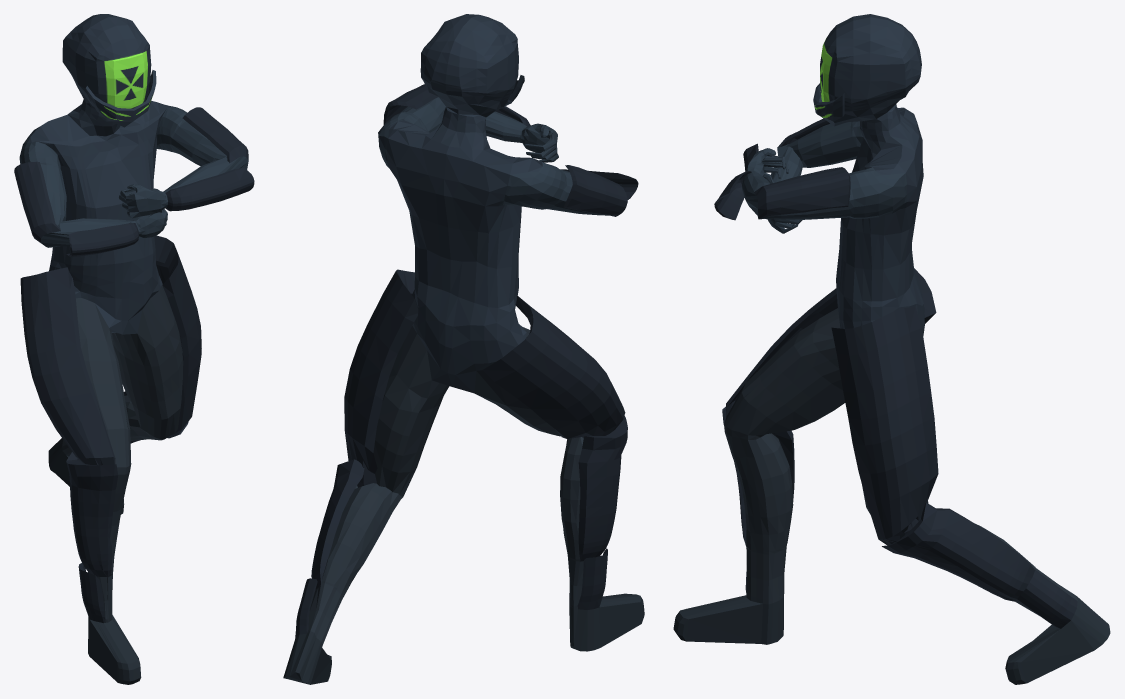
Rendered from Bastion_WL_000021.obj.
The picture shows the model from 3 angles, left to right: view 1: azimuth 30°, elevation 25°; view 2: azimuth 150°, elevation 25°; view 3: azimuth 270°, elevation 25°; orthographic projection. The views are drawn at different scales.
Parts seen in each view (by area): view 1: Cube.002; view 2: Cube.002; view 3: Cube.002.
Part boxes in pixels (box(x1,y1,x2,y2)): Cube.002: box(14, 14, 254, 684); Cube.002: box(283, 14, 644, 684); Cube.002: box(673, 14, 1110, 684).
Size of the model in its own units: 1.34 by 3.58 by 2.18.
